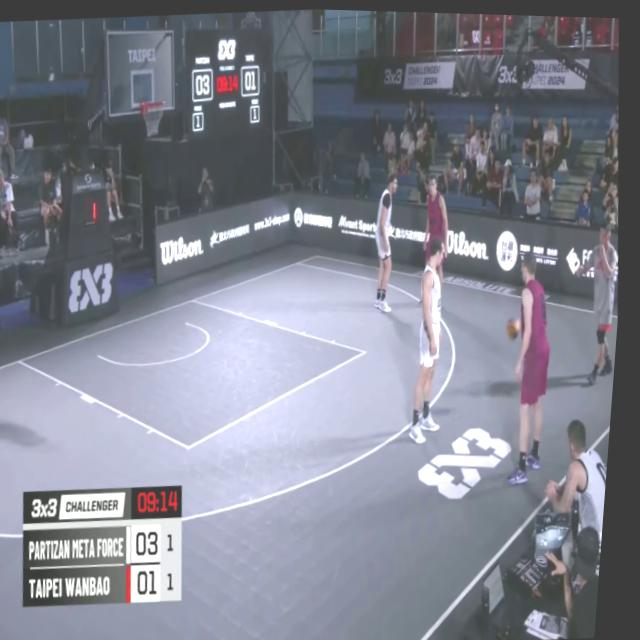ball: (509, 312, 526, 340)
hoop: (138, 95, 168, 140)
player: (490, 242, 573, 487), (401, 231, 460, 445), (366, 165, 407, 310), (419, 168, 459, 290)
